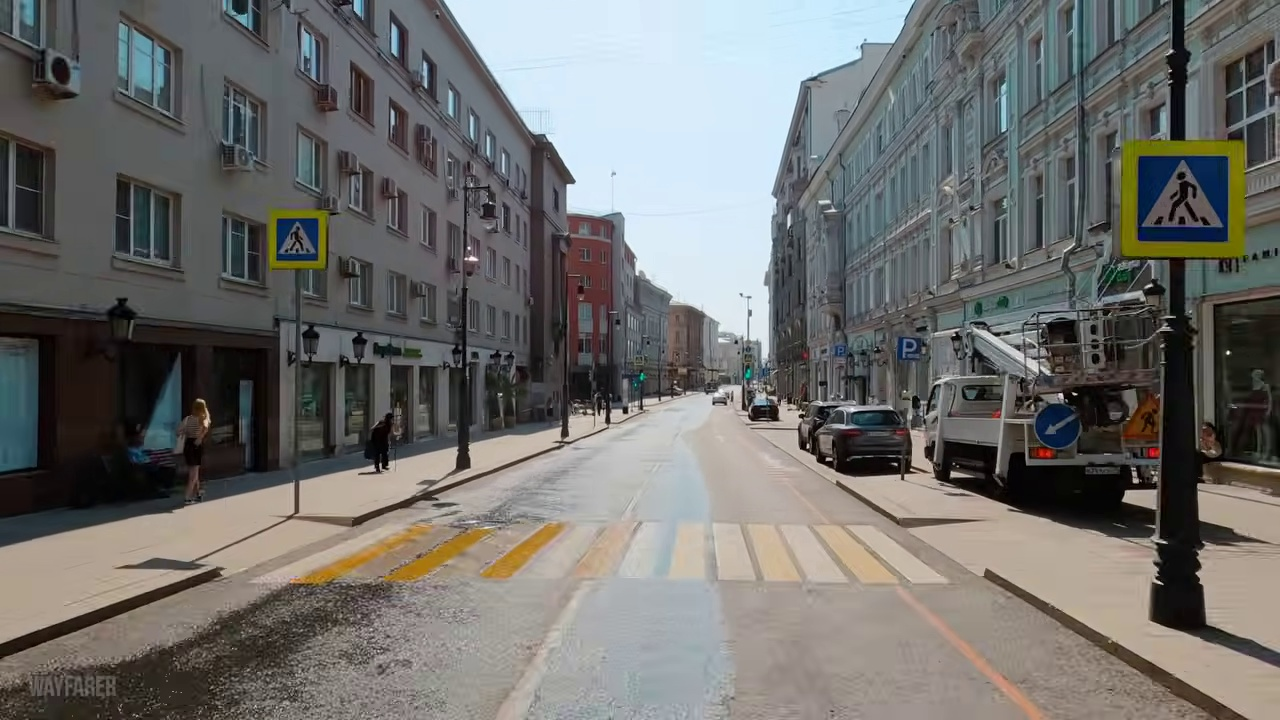apagada: (474, 198, 504, 241)
